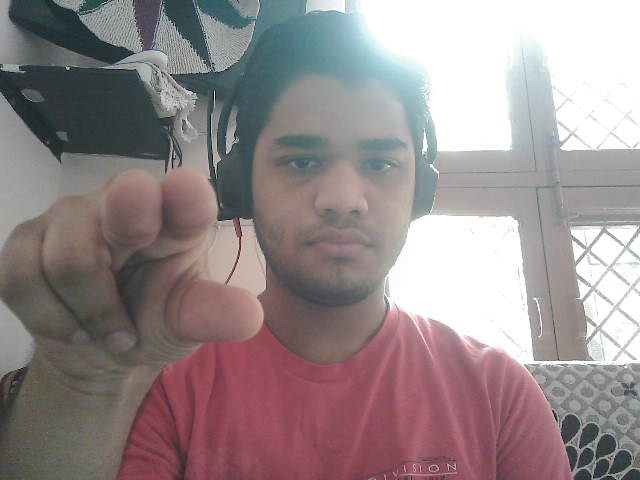No: (12, 164, 260, 398)
